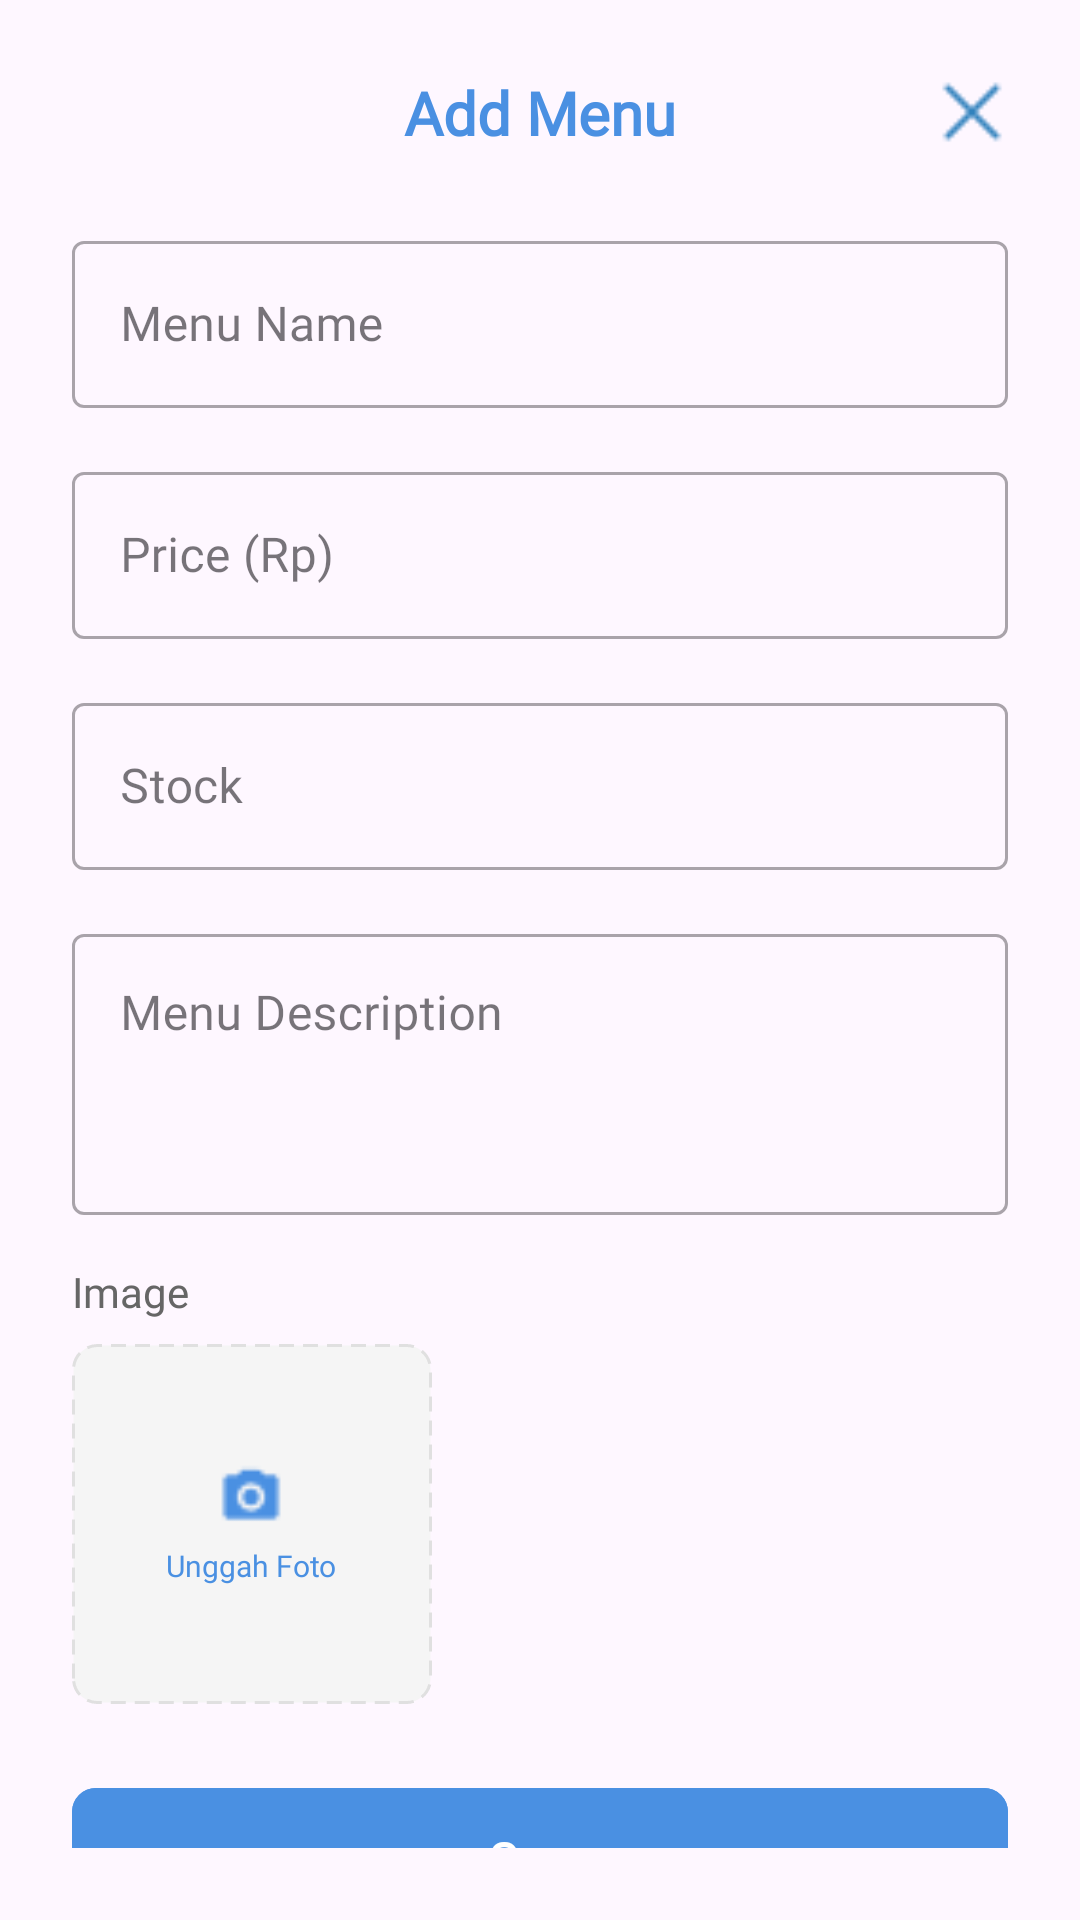

Icons on this 1080px x 1920px Android screen, each with the point to tap as [x,y]:
camera: [251,1495]
close: [972,112]
